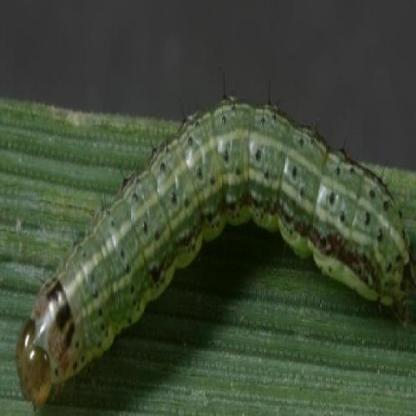armyworm: (15, 100, 416, 416)
